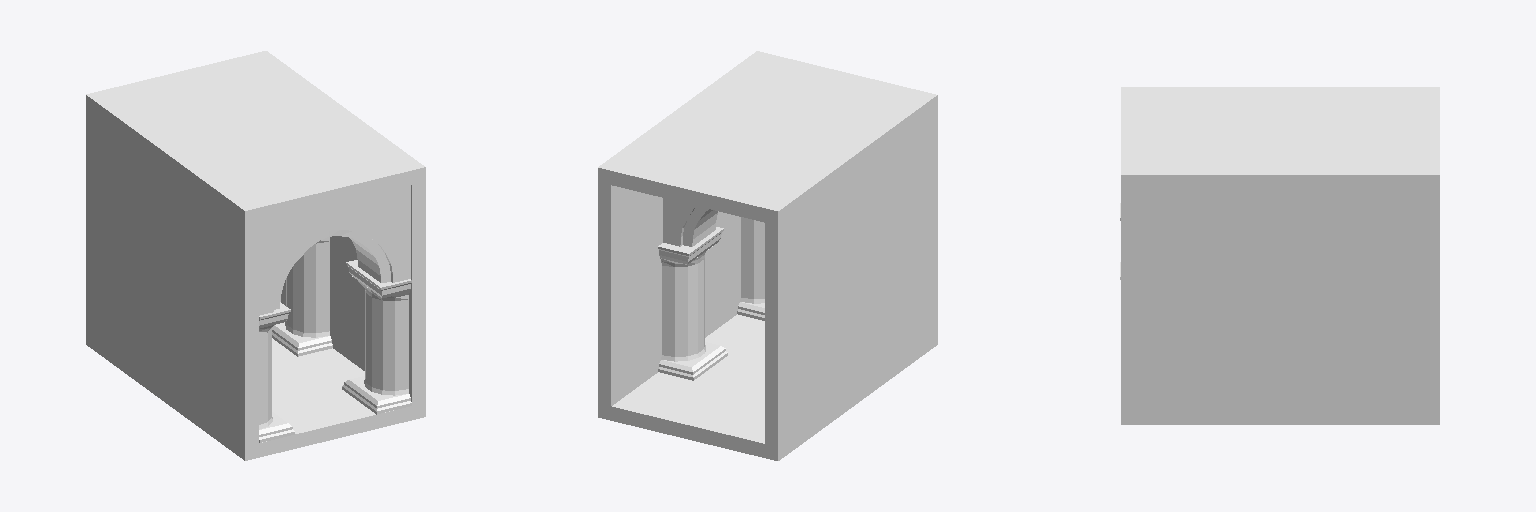
The model's file is templepieceD.obj.
The picture shows the model from 3 angles: view 1: azimuth 30°, elevation 25°; view 2: azimuth 150°, elevation 25°; view 3: azimuth 270°, elevation 25°; orthographic projection.
Visible parts, largest first — view 1: TemplePieceA; view 2: TemplePieceA; view 3: TemplePieceA.
Boxes of the visible parts, box(x1,y1,x2,y2) form: TemplePieceA: box(86, 51, 425, 460); TemplePieceA: box(598, 51, 937, 460); TemplePieceA: box(1120, 87, 1439, 424).
Bounding box in the file's own units: 217 × 287 × 332.